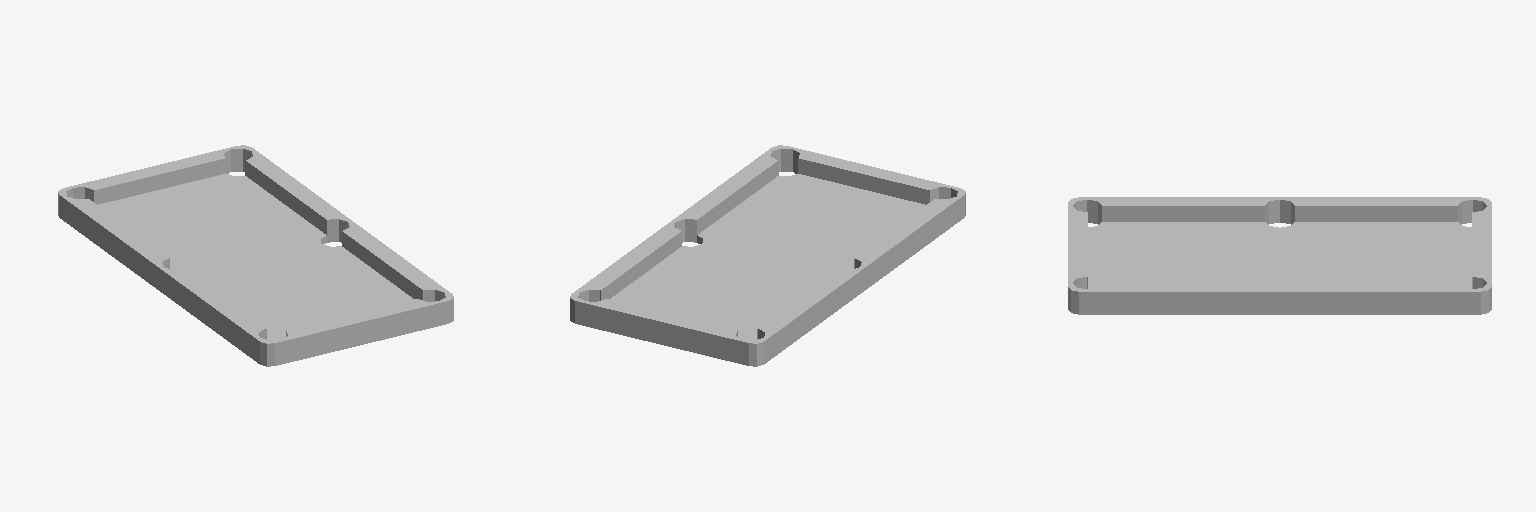
File: custom_table.obj
3 views of the same model, side by side, from view 1: azimuth 30°, elevation 25°; view 2: azimuth 150°, elevation 25°; view 3: azimuth 270°, elevation 25° (orthographic).
Parts seen in each view (by area): view 1: Plane; view 2: Plane; view 3: Plane.
Part boxes in pixels (bbox=[...]): Plane: bbox=[58, 145, 453, 366]; Plane: bbox=[570, 145, 965, 366]; Plane: bbox=[1068, 197, 1491, 314].
Bounding box in the file's own units: 2.64 × 0.3 × 5.02.